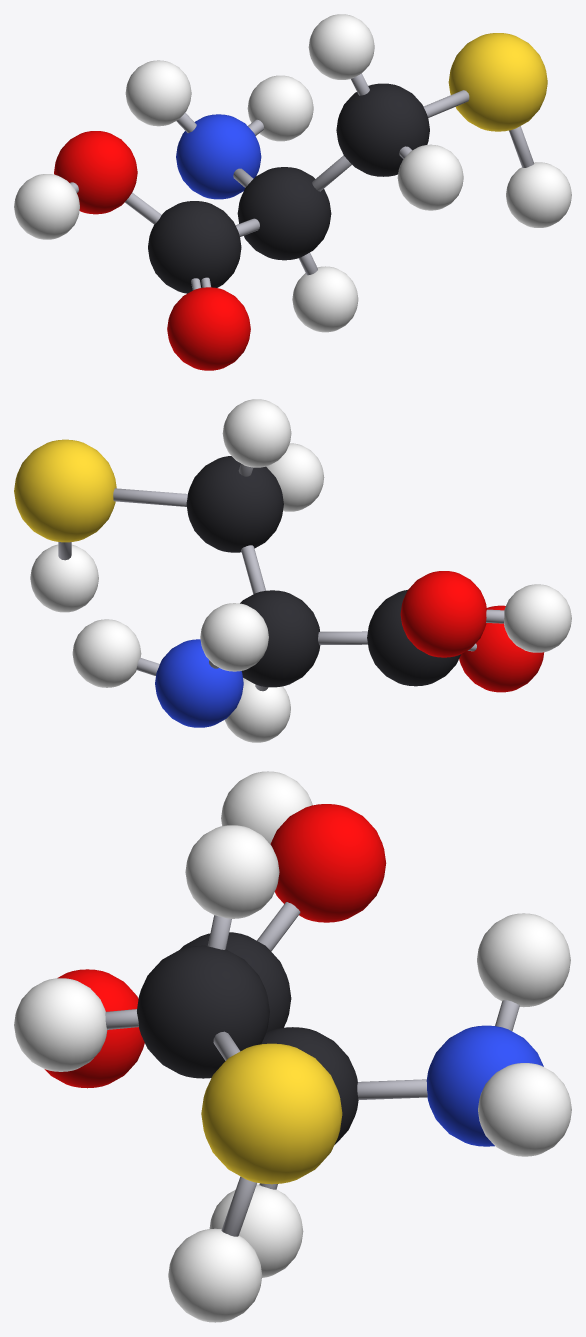
The model's file is cysteine.glb.
3 views of the same model, one above another, from view 1: azimuth 30°, elevation 25°; view 2: azimuth 150°, elevation 25°; view 3: azimuth 270°, elevation 25° (orthographic). The views are drawn at different scales.
Parts seen in each view (by area): view 1: S3, C4, C1, C2, O5, N0, O6, H10, H11, H8, H13, H12 (+6 smaller); view 2: S3, C2, O6, N0, C1, C4, H8, H11, H13, O5, H7, H12 (+5 smaller); view 3: S3, C2, O6, N0, H7, H11, H10, H12, H8, O5, H9, H13 (+5 smaller).
Part boxes in pixels (bbox=[...]): S3: bbox=[448, 33, 547, 131]; C4: bbox=[148, 201, 241, 293]; C1: bbox=[237, 167, 331, 260]; C2: bbox=[336, 83, 429, 176]; O5: bbox=[167, 287, 250, 370]; N0: bbox=[176, 114, 261, 199]; O6: bbox=[54, 131, 137, 214]; H10: bbox=[397, 144, 463, 210]; H11: bbox=[308, 14, 374, 79]; H8: bbox=[125, 60, 191, 126]; H13: bbox=[14, 174, 79, 239]; H12: bbox=[506, 162, 571, 227]; S3: bbox=[14, 439, 116, 542]; C2: bbox=[186, 456, 283, 552]; O6: bbox=[400, 571, 486, 657]; N0: bbox=[155, 639, 243, 727]; C1: bbox=[240, 590, 320, 687]; C4: bbox=[367, 590, 460, 686]; H8: bbox=[200, 603, 268, 671]; H11: bbox=[222, 399, 291, 467]; H13: bbox=[504, 584, 571, 652]; O5: bbox=[459, 605, 544, 692]; H7: bbox=[72, 619, 141, 687]; H12: bbox=[30, 544, 98, 612]; S3: bbox=[201, 1043, 342, 1184]; C2: bbox=[137, 945, 269, 1078]; O6: bbox=[270, 804, 386, 922]; N0: bbox=[426, 1025, 543, 1146]; H7: bbox=[478, 1063, 571, 1156]; H11: bbox=[185, 825, 279, 918]; H10: bbox=[14, 978, 107, 1071]; H12: bbox=[168, 1228, 262, 1322]; H8: bbox=[477, 913, 570, 1007]; O5: bbox=[44, 969, 144, 1088]; H9: bbox=[209, 1184, 303, 1277]; H13: bbox=[221, 771, 312, 844].
Size of the model in its own units: 6.67 by 3.8 by 4.27.
